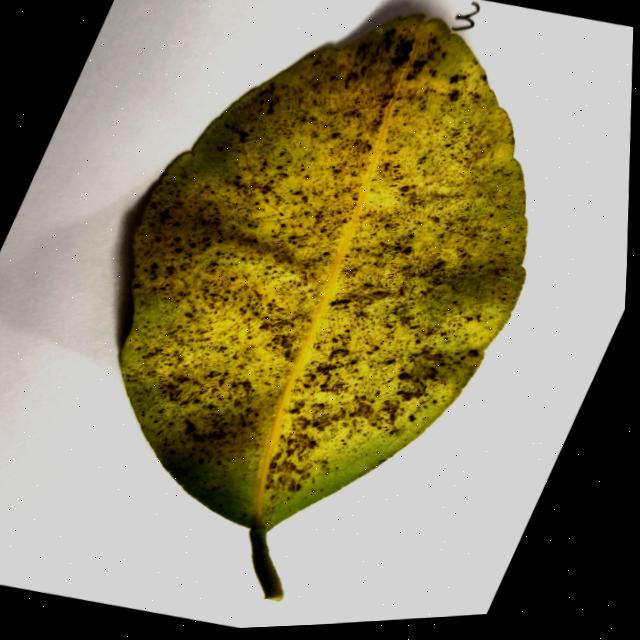melanose: (121, 14, 526, 599)
